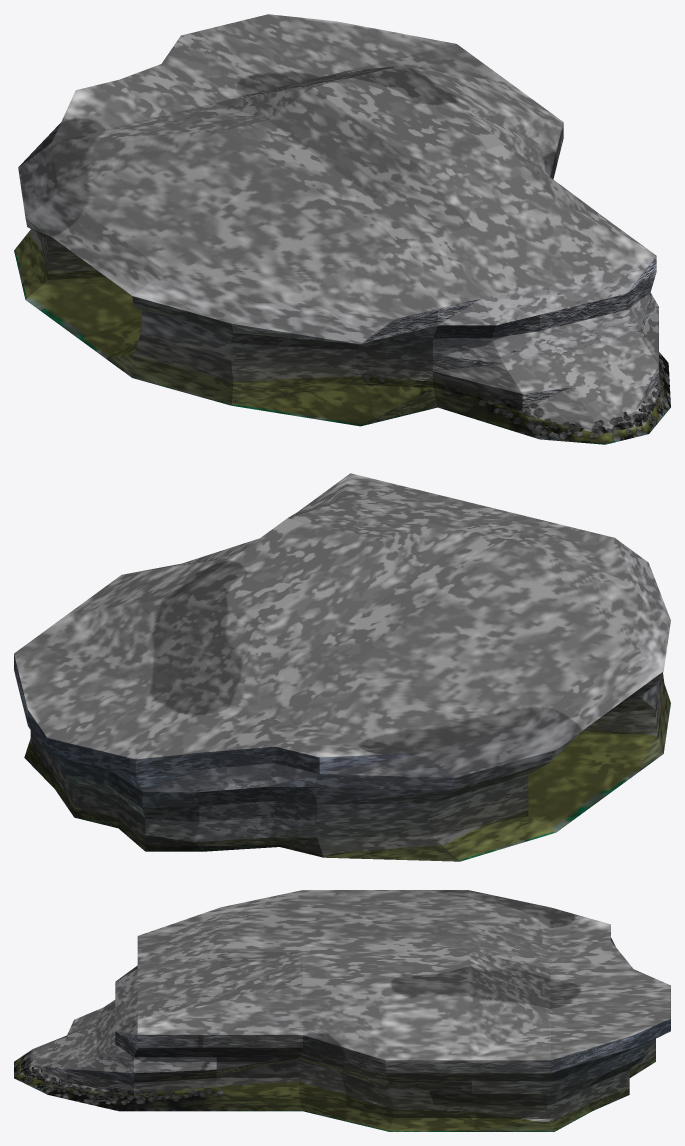
Rendered from HillsNCliffs.fbx.
3 views of the same model, one above another, from view 1: azimuth 30°, elevation 25°; view 2: azimuth 150°, elevation 25°; view 3: azimuth 270°, elevation 25° (orthographic). The views are drawn at different scales.
Parts seen in each view (by area): view 1: Hill&Cliffs; view 2: Hill&Cliffs; view 3: Hill&Cliffs.
Part boxes in pixels (x1,y1,x2,y2): Hill&Cliffs: [14, 14, 670, 444]; Hill&Cliffs: [14, 473, 670, 861]; Hill&Cliffs: [14, 890, 670, 1131].
Size of the model in its own units: 11553 by 17516 by 3243.
Materials: 1 (1 with a texture image).
